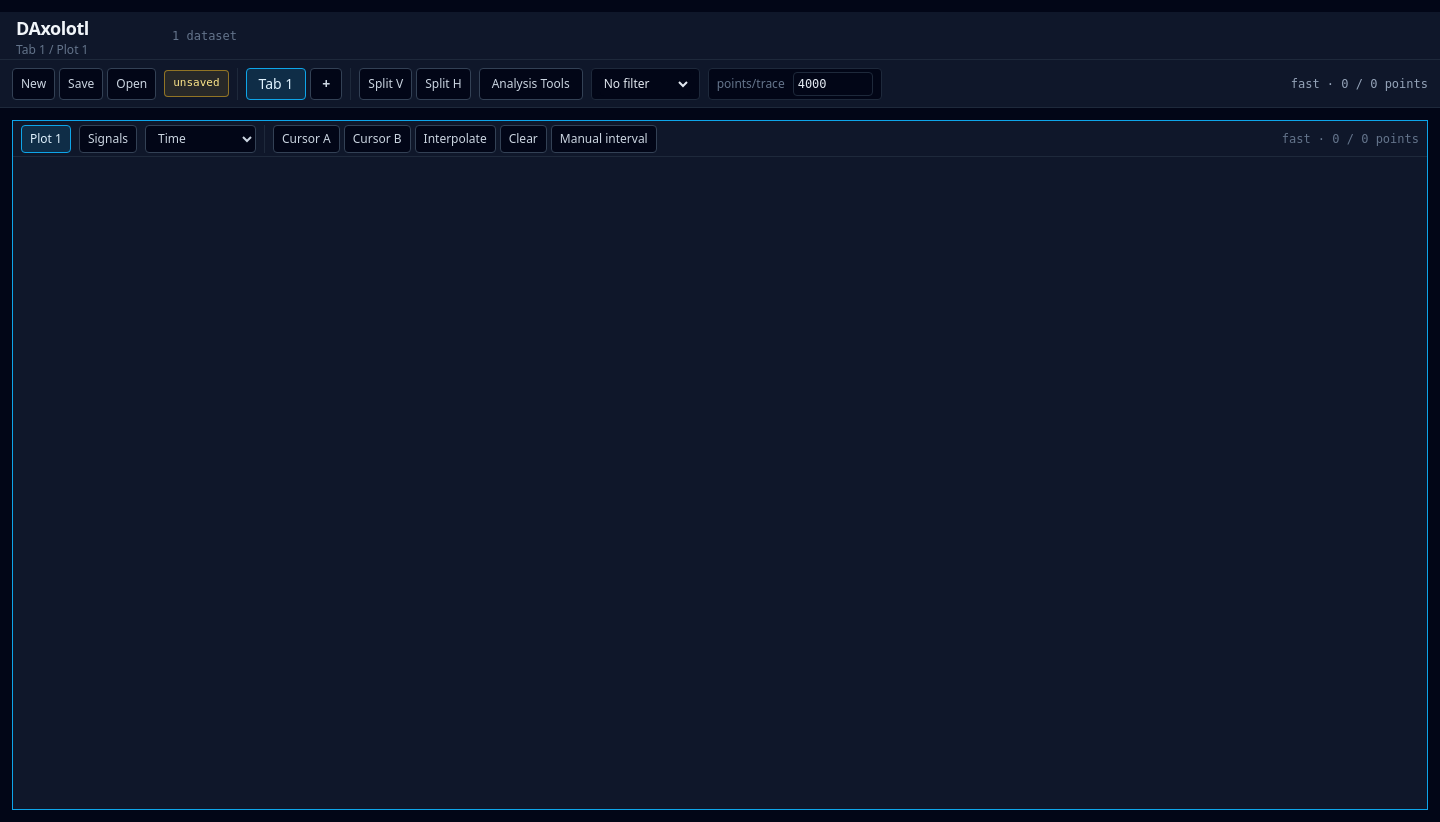
Test: App › renames tabs on double click
Check: the text "1 dataset" is shown, box [172,28,237,44]
Double-click the button "Tab 1" at (276, 84), box [246,68,306,100]
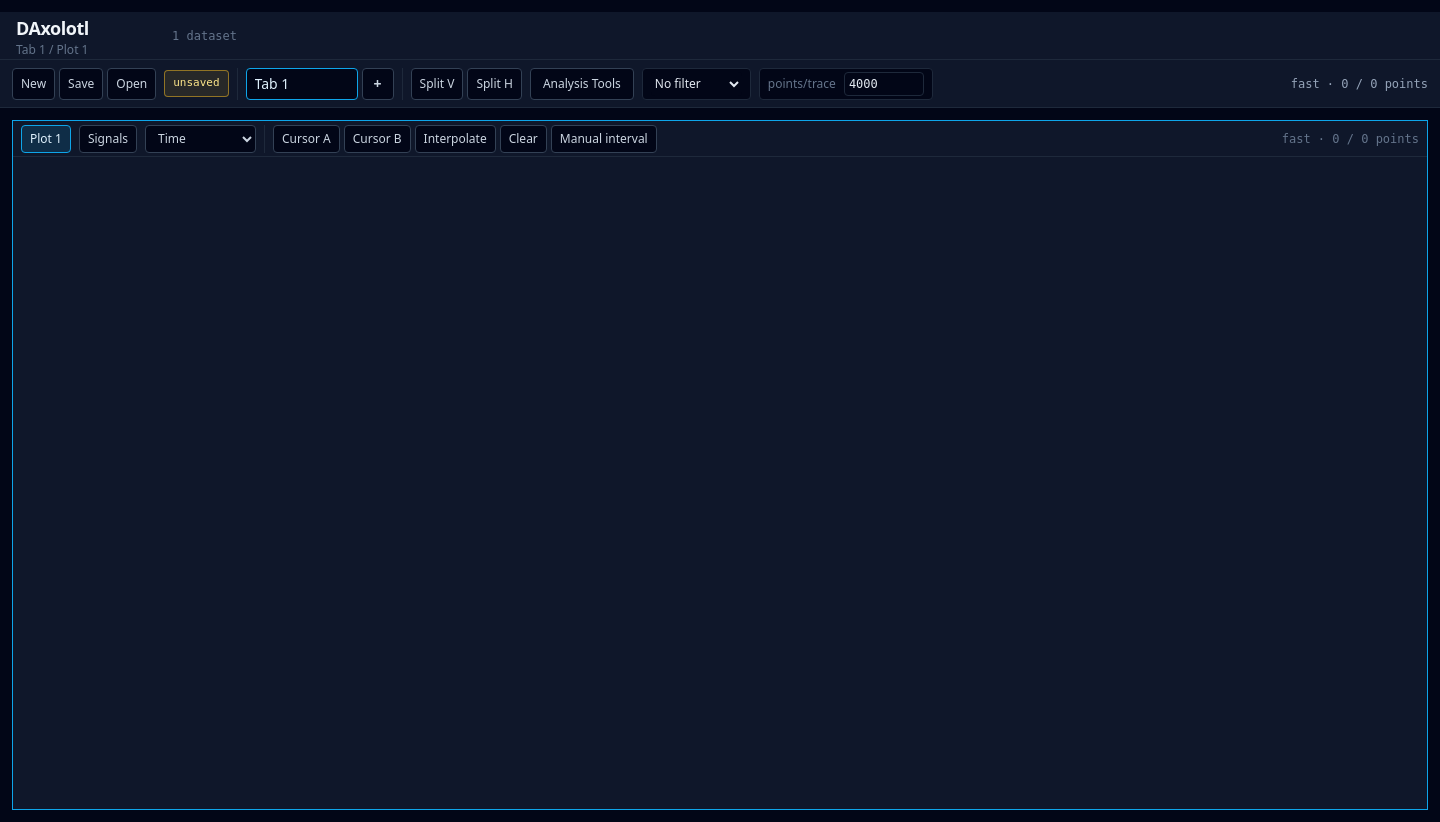
Replace the text in the field named "Rename Tab 1" with "Ignition" at (302, 84), box [246,68,358,100]
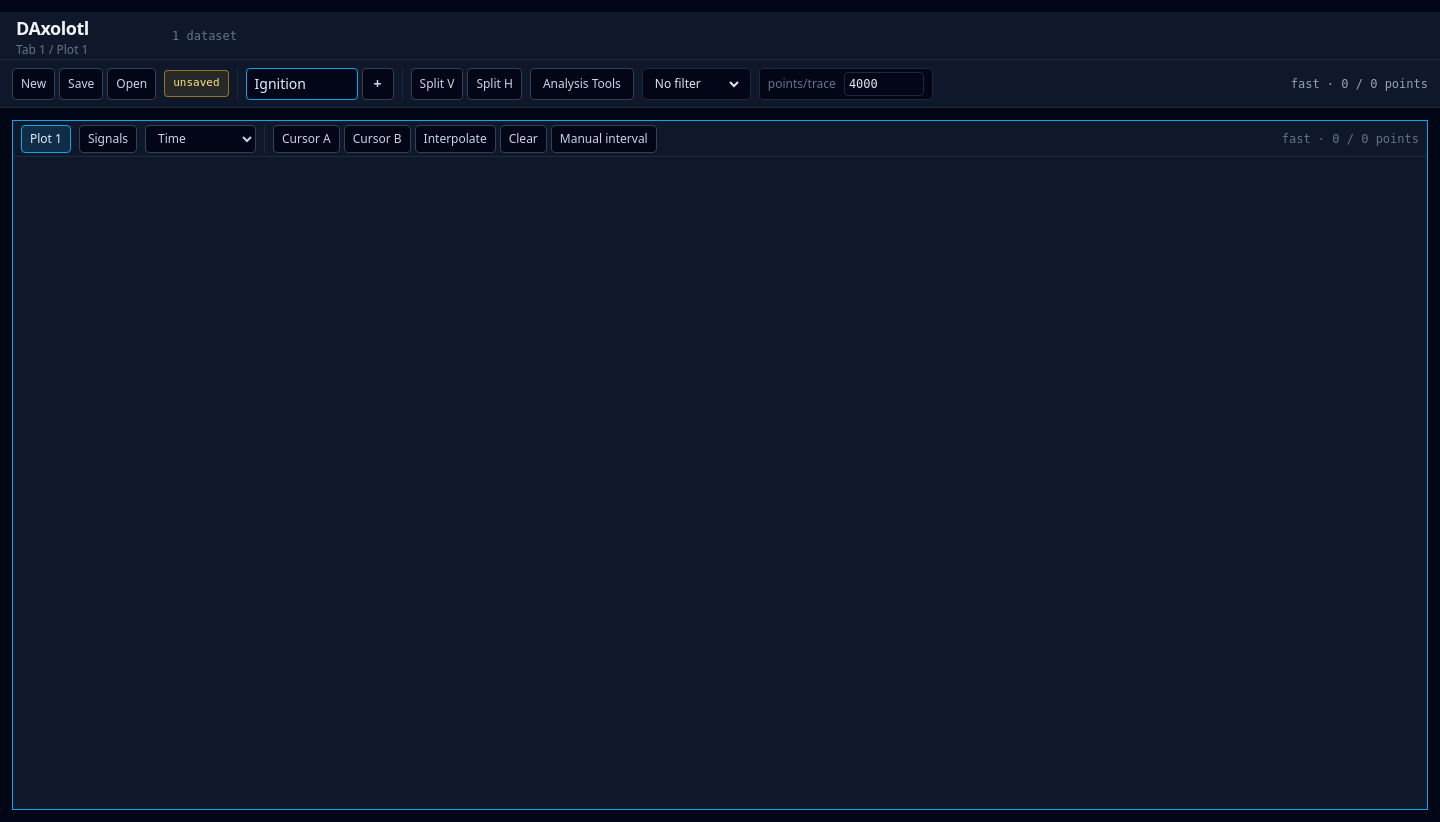
Press Enter in the field named "Rename Tab 1", box [246,68,358,100]
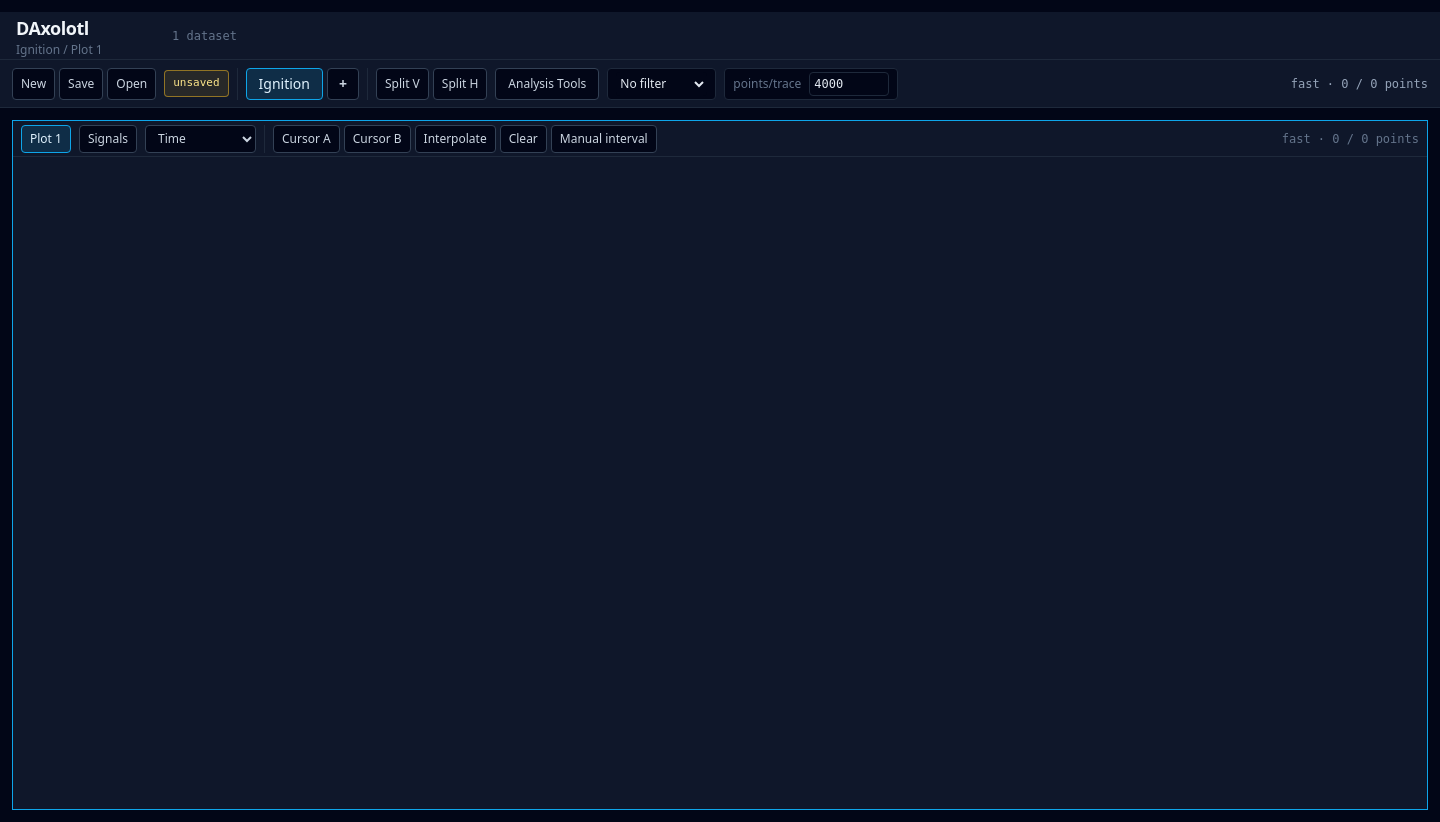
Check: the button "Ignition" is shown, box [246,68,323,100]
Check: the text "Ignition / Plot 1" is shown, box [16,40,103,58]
